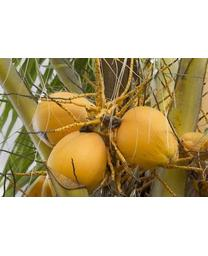coconut: (114, 105, 180, 168), (28, 90, 97, 146), (47, 131, 107, 192)
